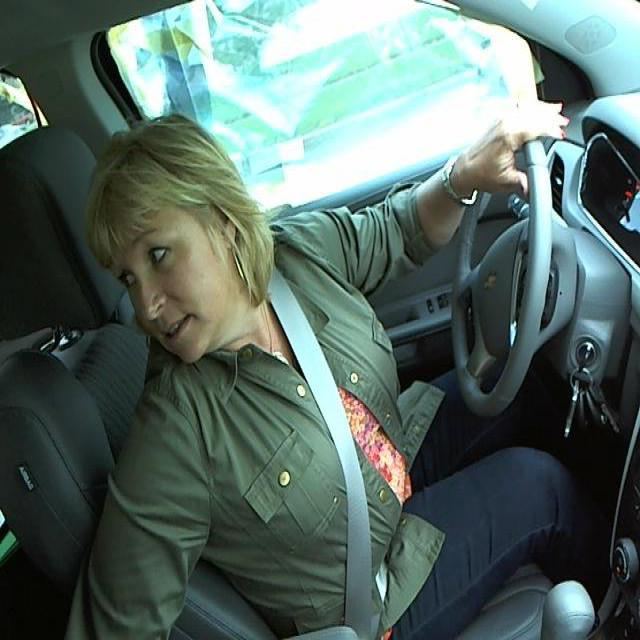seatbelt: (264, 290, 389, 630)
